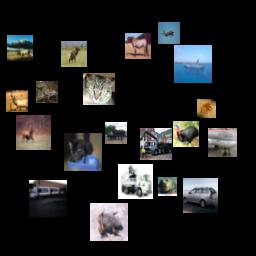airplane: (208, 128, 237, 157), (158, 22, 180, 44)
automobile: (183, 178, 218, 213)
bird: (173, 121, 199, 147)
cat: (83, 73, 115, 105)
deer: (16, 115, 51, 150), (61, 41, 87, 67), (7, 35, 33, 61), (6, 90, 28, 112)
dog: (64, 133, 102, 171), (197, 99, 216, 118)
frog: (90, 203, 128, 241), (36, 81, 58, 103), (158, 177, 177, 196)
ship: (174, 45, 212, 83)
truck: (29, 180, 67, 218), (118, 164, 153, 199), (140, 128, 172, 160), (105, 122, 127, 144)
